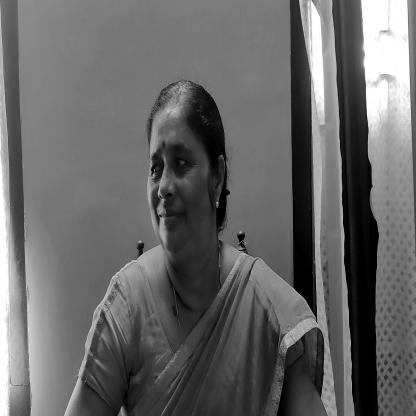Distracted: (143, 93, 221, 271)
